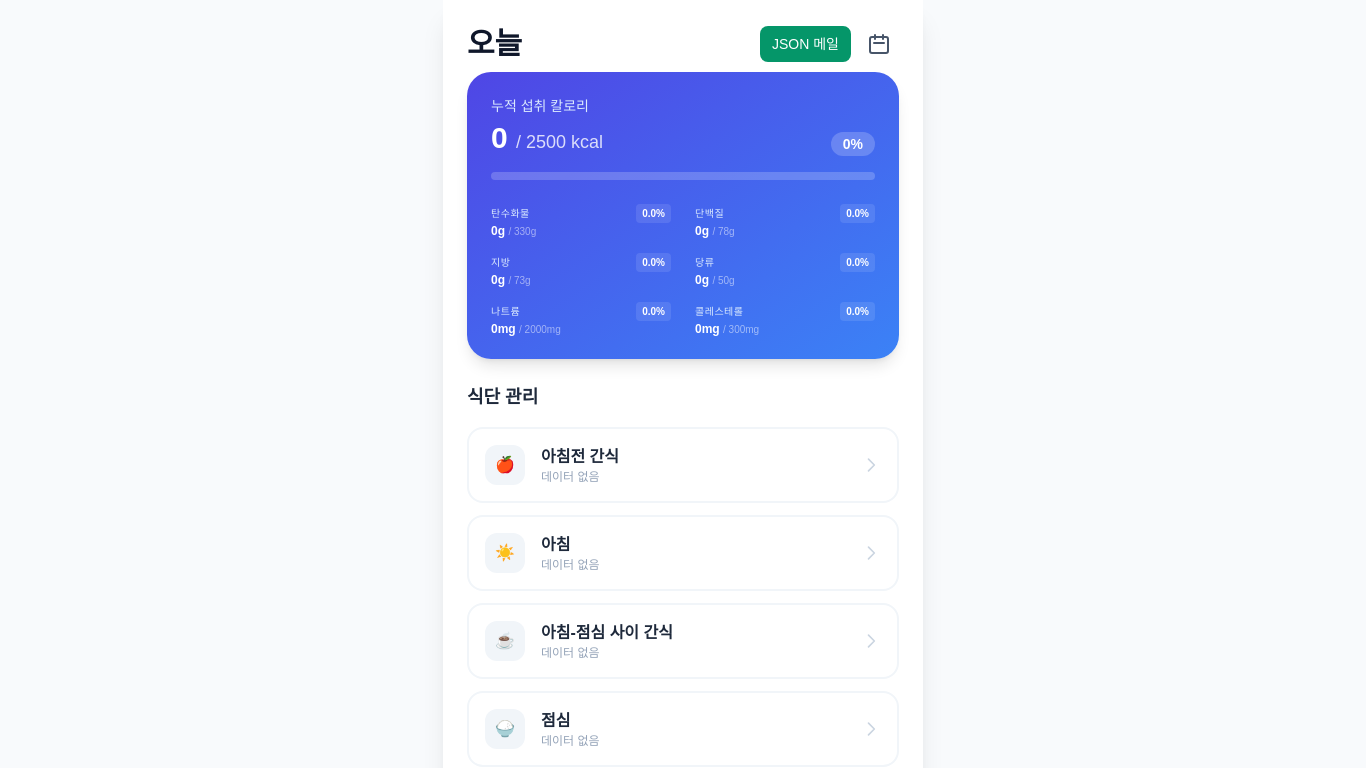
Test case: App Component - Date Management Unit Tests › should open calendar when clicking calendar icon
Click the button named "달력 열기". click: click(879, 44)
box: [859,24,899,64]
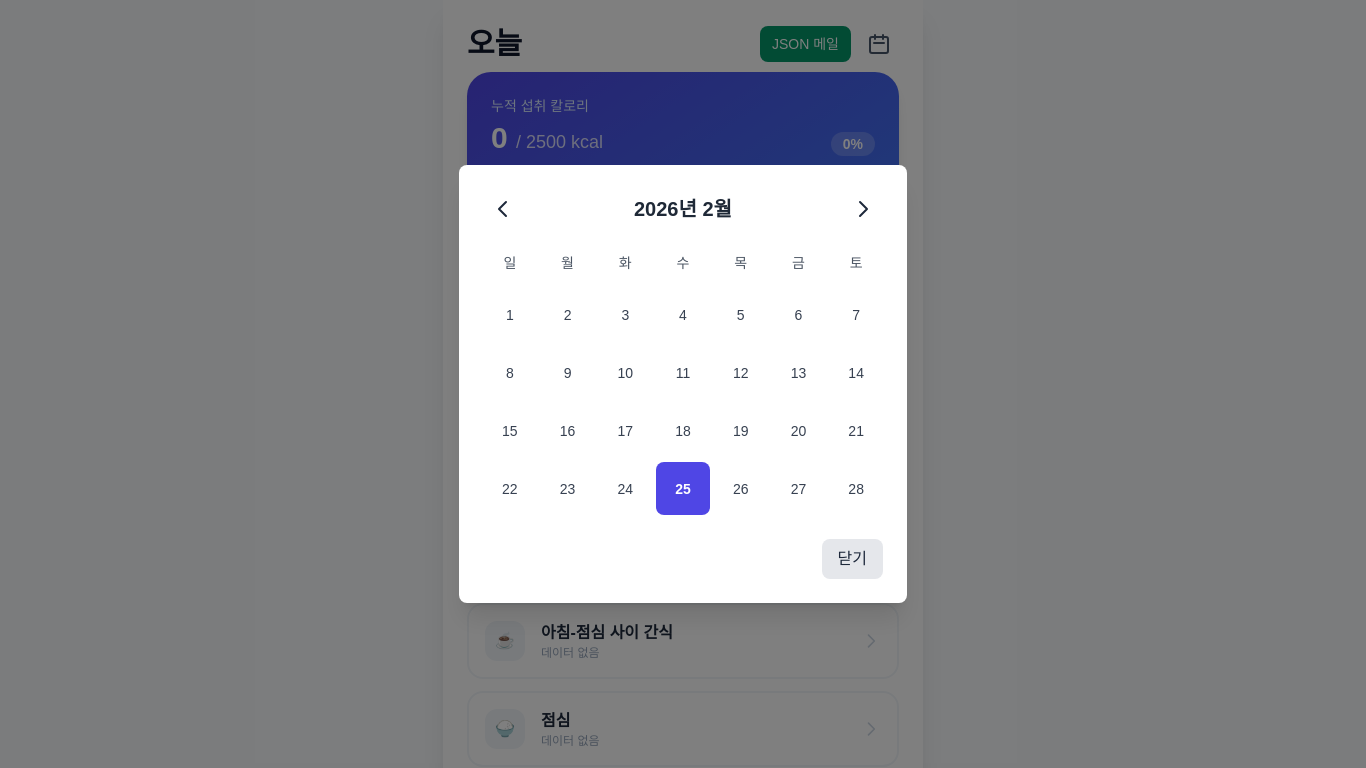
Check: the button "닫기" is shown, box [822,539,883,579]
